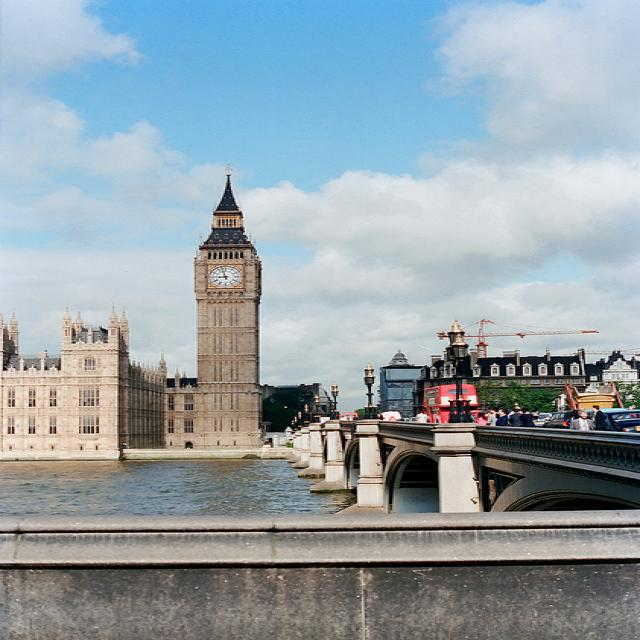Vehicle: (424, 385, 455, 424), (603, 409, 640, 432), (462, 384, 479, 419), (540, 411, 575, 428), (534, 413, 552, 426)
